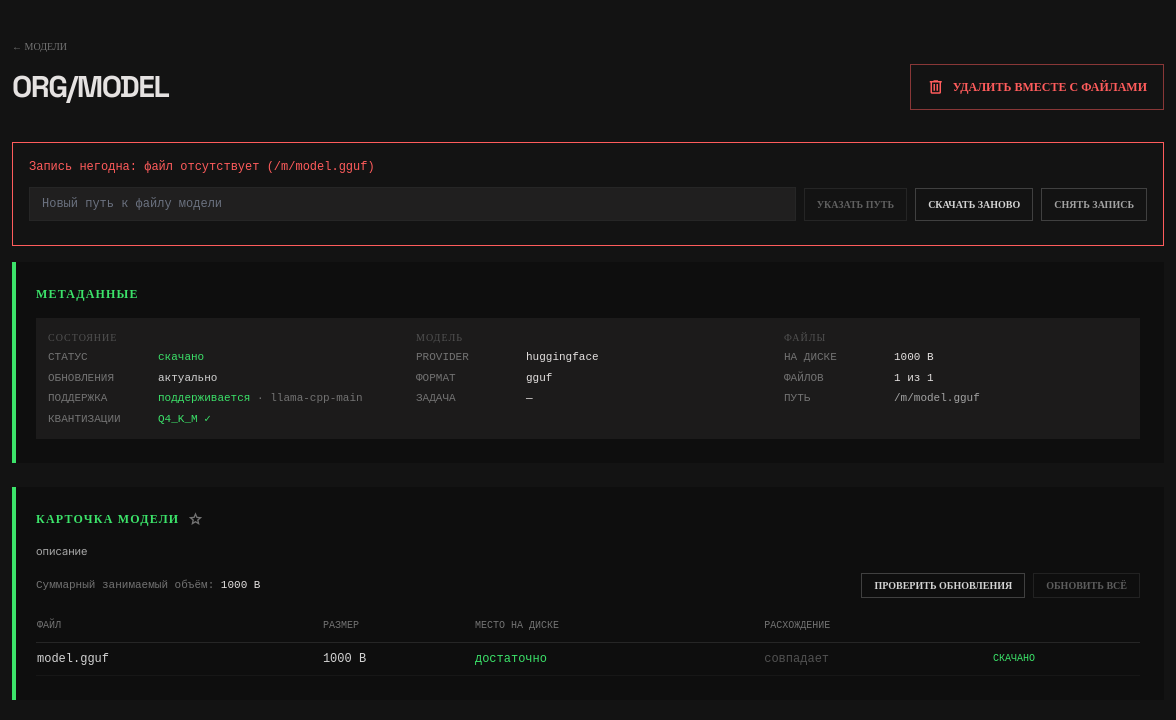
Test: ModelDetailPage — ручное исправление негодной записи › повторная закачка сообщает о начале очереди
Expected: the element with test id "model-repair" is shown, x1=12 y1=142 x2=1164 y2=246
What coordinates should you click on to do the following:
click the button with test id "repair-redownload"
I would click on:
 (974, 204)
Its box is x1=915 y1=188 x2=1033 y2=220.
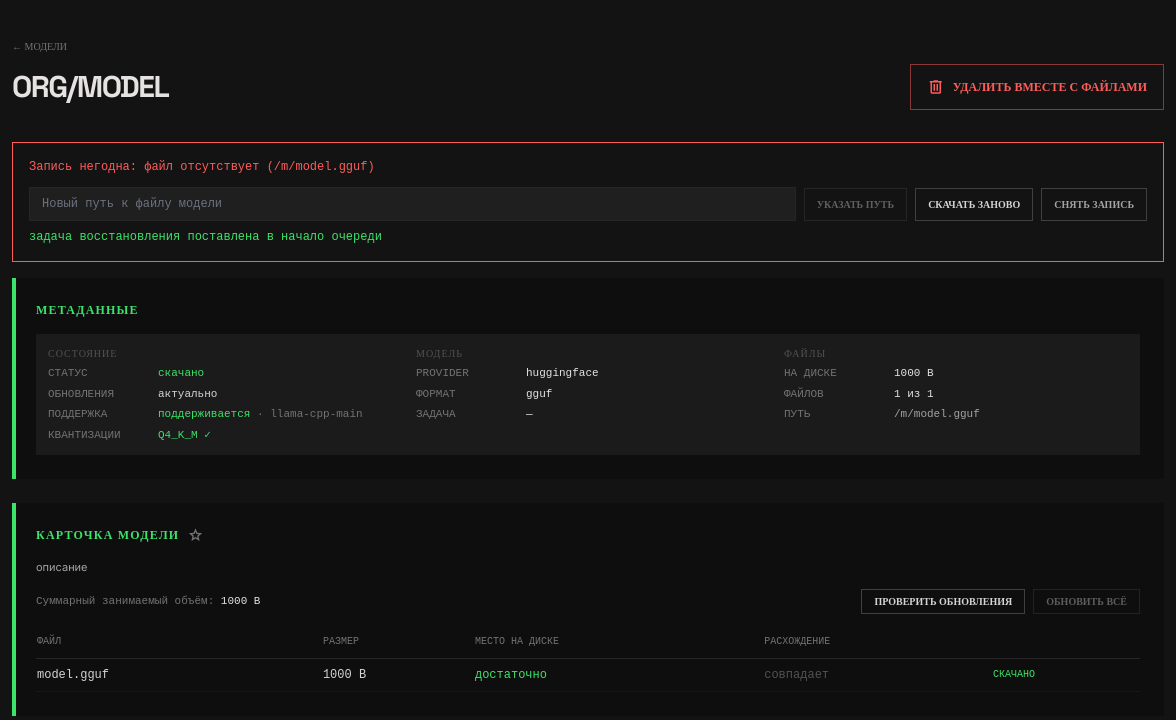
Result: the text with test id "repair-message" shows "в начало очереди" at x1=29 y1=230 x2=382 y2=244
